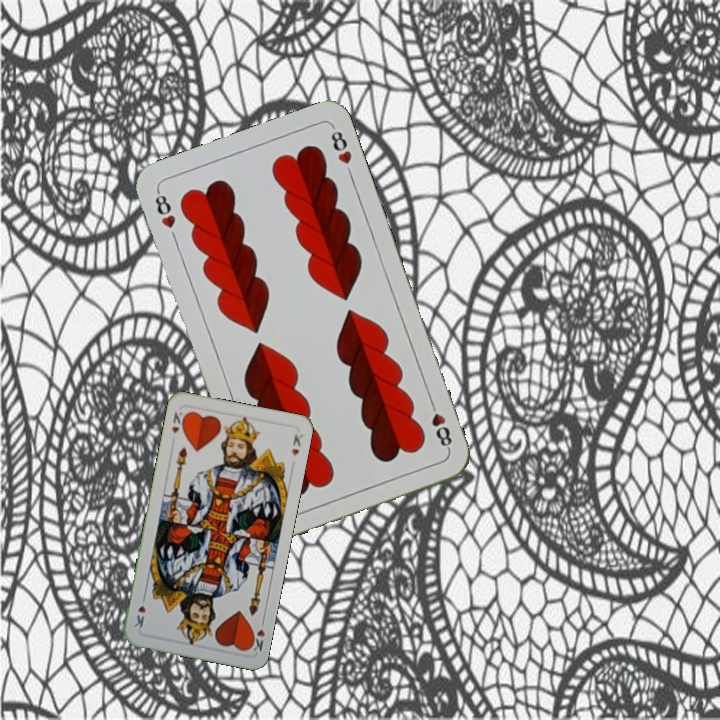H8: (425, 396, 455, 453), (150, 186, 178, 231)
HK: (245, 614, 268, 655), (167, 408, 185, 436)
